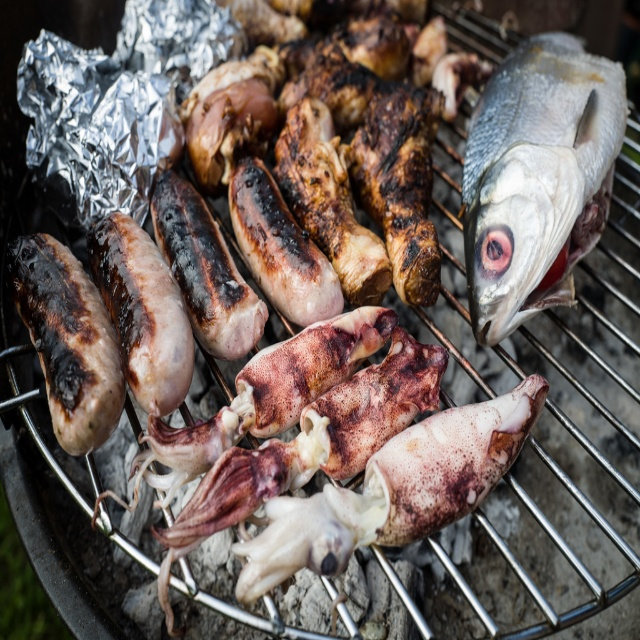Fish: (464, 27, 628, 349)
